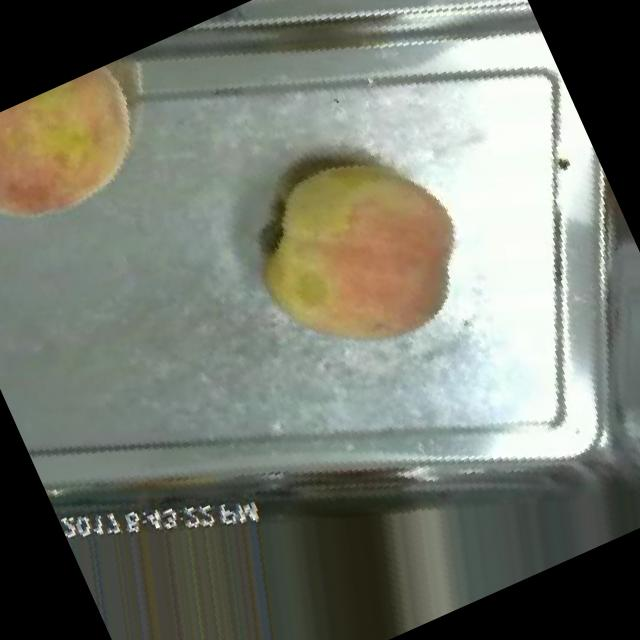Fruit: (190, 90, 530, 424), (0, 50, 201, 294)
